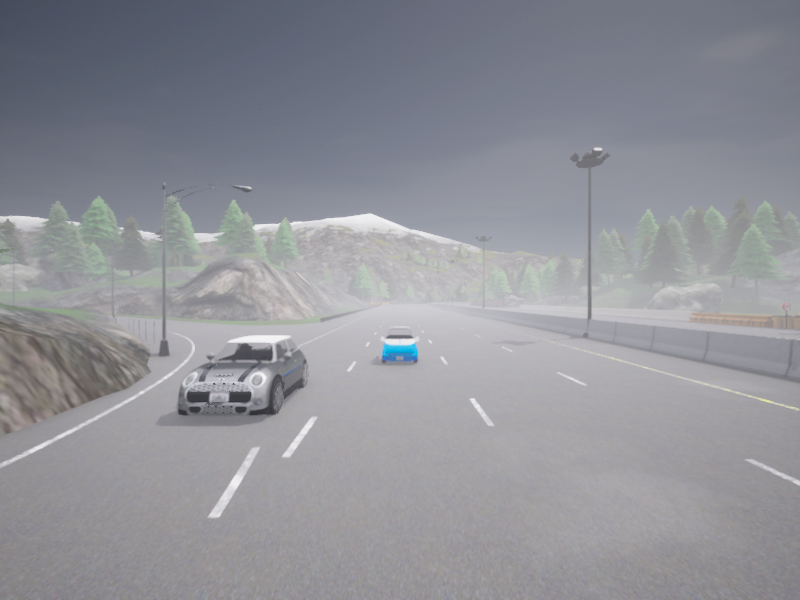vehicle: (178, 336, 307, 415), (380, 327, 419, 363), (446, 302, 448, 304)
